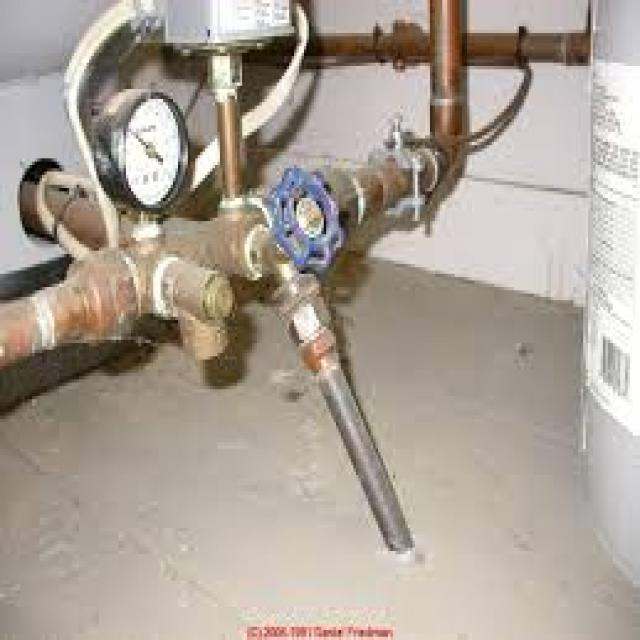Wheel Handle Valve Threaded: (256, 162, 355, 284)
